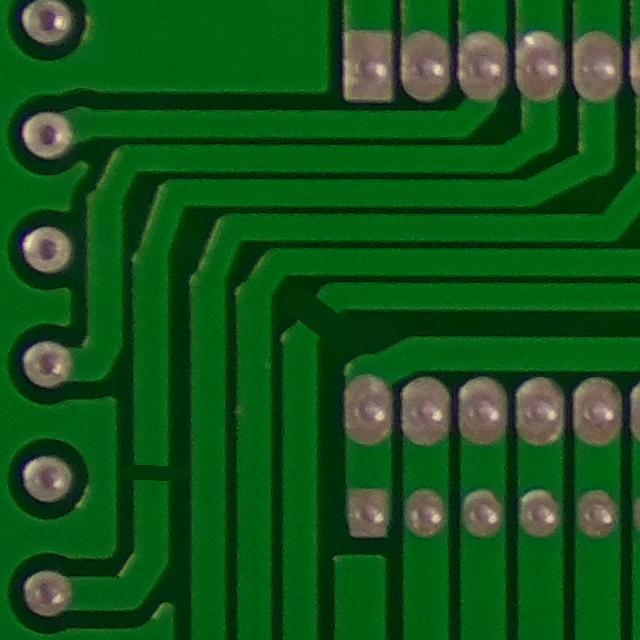open_circuit: (280, 286, 361, 354)
